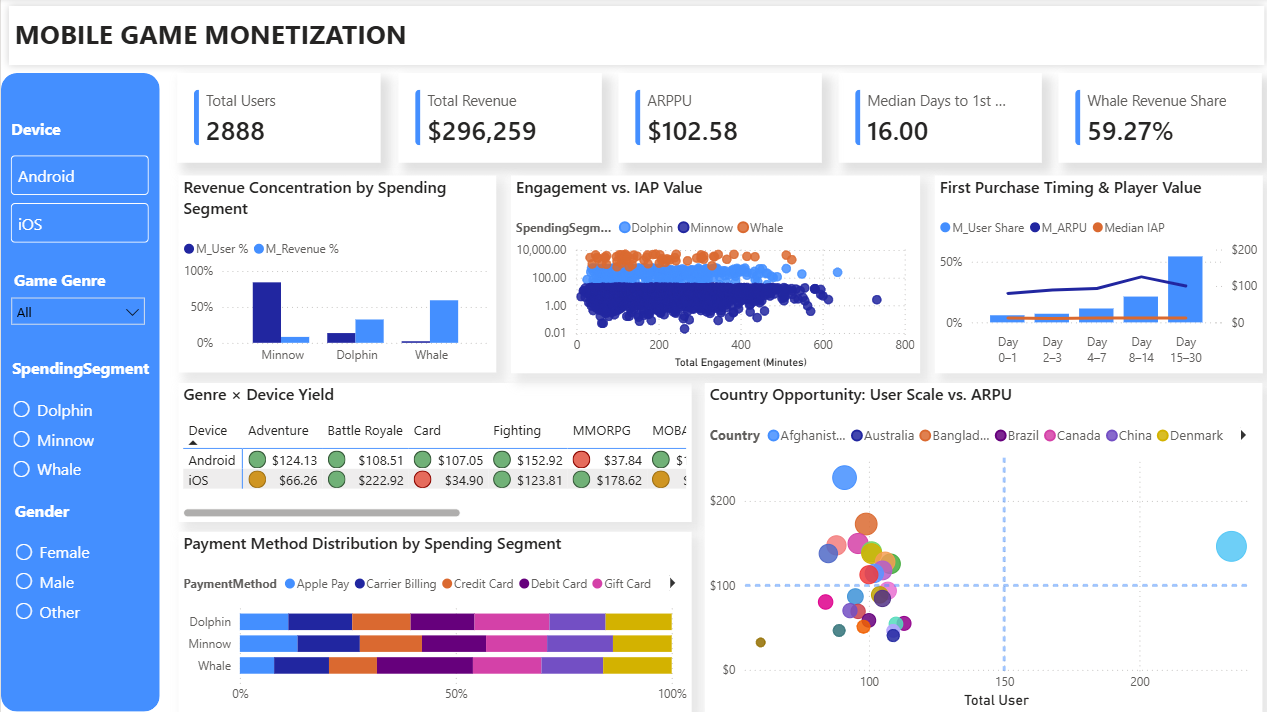

What the dashboard file says about the page in this screenshot:
{"tool":"powerbi","page":{"name":"Page 1","canvas":[1280,720],"ordinal":0},"visuals":[{"type":"shape","box":[0,0,1280.2,75.6],"z":0},{"type":"shape","box":[0,75.5,159.9,643.3],"z":1000},{"type":"textbox","box":[9.3,12.8,441.9,51.2],"z":2000},{"type":"cardVisual","fields":{"Data":["CountNonNull(mobile_game_data.UserID)"]},"box":[177.9,75.6,205,90],"z":3000},{"type":"cardVisual","fields":{"Data":["mobile_game_data.M_IAP Revenue"]},"box":[399.7,75.6,205,90],"z":4000},{"type":"cardVisual","fields":{"Data":["Median(mobile_game_data.FirstPurchaseDaysAfterInstall)"]},"box":[843.3,75.1,205,90],"z":5000},{"type":"cardVisual","fields":{"Data":["mobile_game_data.M_ARPU"]},"box":[621.5,75.1,205,90],"z":6000},{"type":"cardVisual","fields":{"Data":["mobile_game_data.M_Whale Revenue Contribution"]},"box":[1065.1,75.6,205,90],"z":7000},{"type":"listSlicer","fields":{"Values":["mobile_game_data.Gender"]},"box":[8.8,504.8,147.9,135.9],"z":8000},{"type":"advancedSlicerVisual","fields":{"Values":["mobile_game_data.Device"]},"box":[5,120.9,149.8,138.5],"z":9000},{"type":"listSlicer","fields":{"Values":["mobile_game_data.SpendingSegment"]},"box":[6.3,361.3,148.5,143.5],"z":10000},{"type":"slicer","fields":{"Values":["mobile_game_data.GameGenre"]},"box":[0,268.1,155,72.7],"z":11000},{"type":"clusteredColumnChart","title":"Revenue Concentration by Spending Segment","fields":{"Category":["mobile_game_data.SpendingSegment"],"Y":["mobile_game_data.M_User %","mobile_game_data.M_Revenue %"]},"box":[178.5,178.5,320,198.5],"z":12000},{"type":"pivotTable","title":"Genre × Device Yield","fields":{"Rows":["mobile_game_data.Device"],"Columns":["mobile_game_data.GameGenre"],"Values":["mobile_game_data.M_ARPU"]},"box":[178.4,387.6,516.5,140.2],"z":13000},{"type":"scatterChart","title":"Engagement vs. IAP Value","fields":{"X":["mobile_game_data.C_Total Engagement Minutes"],"Series":["mobile_game_data.SpendingSegment"],"Y":["mobile_game_data.InAppPurchaseAmount"]},"box":[513.6,178.8,411.6,198.9],"z":14000},{"type":"lineClusteredColumnComboChart","title":"First Purchase Timing & Player Value","fields":{"Category":["mobile_game_data.C_First Purchase Window"],"Y":["mobile_game_data.M_User Share"],"Y2":["mobile_game_data.M_ARPU","Median(mobile_game_data.InAppPurchaseAmount)"]},"box":[940.4,178.8,330,198.9],"z":15000},{"type":"hundredPercentStackedBarChart","title":"Payment Method Distribution by Spending Segment","fields":{"Category":["mobile_game_data.SpendingSegment"],"Series":["mobile_game_data.PaymentMethod"],"Y":["mobile_game_data.M_Payment Method Share"]},"box":[178.9,538,516.9,181.7],"z":16000},{"type":"scatterChart","title":"Country Opportunity: User Scale vs. ARPU","fields":{"X":["mobile_game_data.M_total user"],"Y":["mobile_game_data.M_ARPU"],"Size":["Sum(mobile_game_data.InAppPurchaseAmount)"],"Series":["mobile_game_data.Country"]},"box":[708.5,387.3,562,332.4],"z":17000}]}

Visuals, with their boxes in screenshot pixels (x1, y1, x2, y2), scaled from the page's 1280x720 canvas onto the 1267x712 screenshot:
shape: [x1=0, y1=0, x2=1266, y2=75]
shape: [x1=0, y1=75, x2=158, y2=711]
textbox: [x1=9, y1=13, x2=447, y2=63]
cardVisual - CountNonNull(mobile_game_data.UserID): [x1=176, y1=75, x2=379, y2=164]
cardVisual - mobile_game_data.M_IAP Revenue: [x1=396, y1=75, x2=599, y2=164]
cardVisual - Median(mobile_game_data.FirstPurchaseDaysAfterInstall): [x1=835, y1=74, x2=1038, y2=163]
cardVisual - mobile_game_data.M_ARPU: [x1=615, y1=74, x2=818, y2=163]
cardVisual - mobile_game_data.M_Whale Revenue Contribution: [x1=1054, y1=75, x2=1257, y2=164]
listSlicer - mobile_game_data.Gender: [x1=9, y1=499, x2=155, y2=634]
advancedSlicerVisual - mobile_game_data.Device: [x1=5, y1=120, x2=153, y2=257]
listSlicer - mobile_game_data.SpendingSegment: [x1=6, y1=357, x2=153, y2=499]
slicer - mobile_game_data.GameGenre: [x1=0, y1=265, x2=153, y2=337]
"Revenue Concentration by Spending Segment" clusteredColumnChart: [x1=177, y1=177, x2=493, y2=373]
"Genre × Device Yield" pivotTable: [x1=177, y1=383, x2=688, y2=522]
"Engagement vs. IAP Value" scatterChart: [x1=508, y1=177, x2=916, y2=374]
"First Purchase Timing & Player Value" lineClusteredColumnComboChart: [x1=931, y1=177, x2=1257, y2=374]
"Payment Method Distribution by Spending Segment" hundredPercentStackedBarChart: [x1=177, y1=532, x2=689, y2=711]
"Country Opportunity: User Scale vs. ARPU" scatterChart: [x1=701, y1=383, x2=1258, y2=711]
